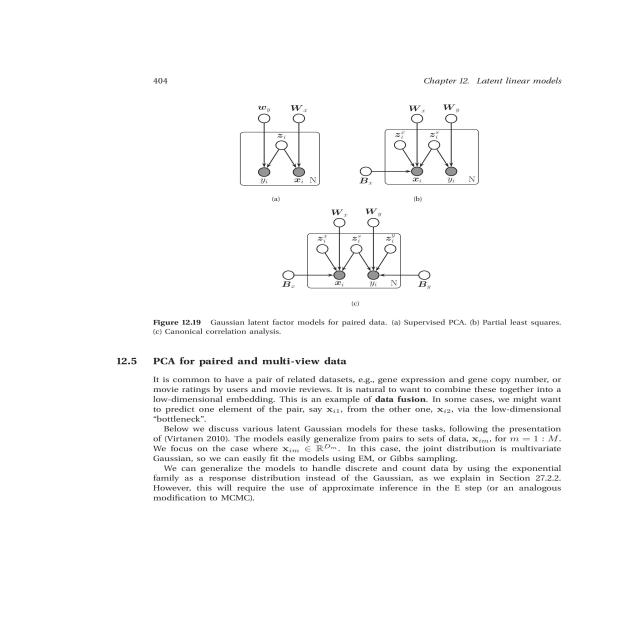diagram: (97, 92, 618, 345)
